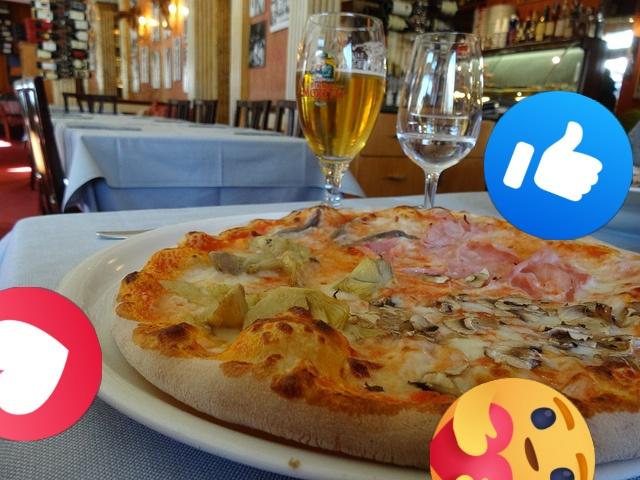care: (430, 378, 595, 480)
like: (484, 91, 633, 240)
love: (0, 287, 102, 441)
